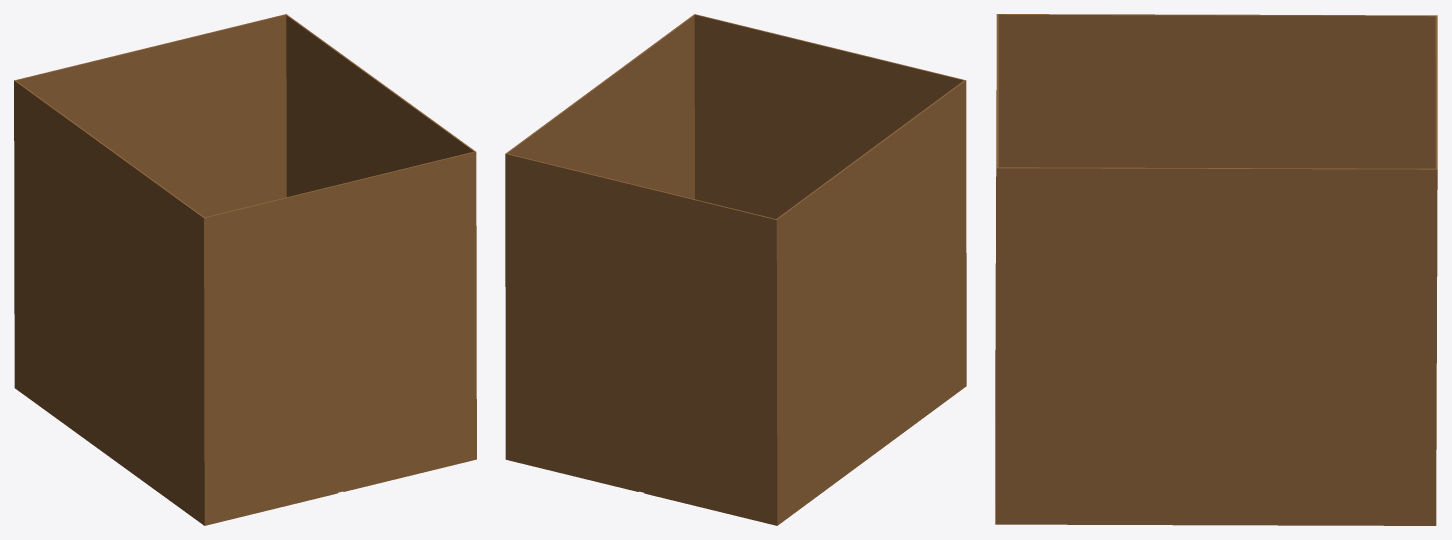
File: original-31.obj
3 renders of one model, left to right at view 1: azimuth 30°, elevation 25°; view 2: azimuth 150°, elevation 25°; view 3: azimuth 270°, elevation 25°, orthographic. The views are drawn at different scales.
Visible parts, largest first — view 1: mesh34/mesh34-geometry#mesh34-geometry; view 2: mesh34/mesh34-geometry#mesh34-geometry; view 3: mesh34/mesh34-geometry#mesh34-geometry.
Part boxes in pixels (x1=…): mesh34/mesh34-geometry#mesh34-geometry: x1=14, y1=14, x2=476, y2=525; mesh34/mesh34-geometry#mesh34-geometry: x1=505, y1=14, x2=966, y2=525; mesh34/mesh34-geometry#mesh34-geometry: x1=995, y1=14, x2=1437, y2=525.
Bounding box in the file's own units: 0.8004 × 0.8663 × 0.9701.
